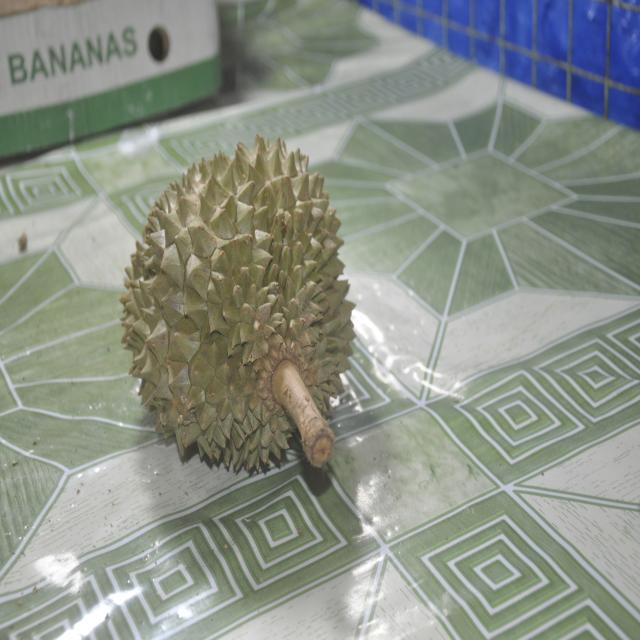mature: (121, 136, 355, 470)
